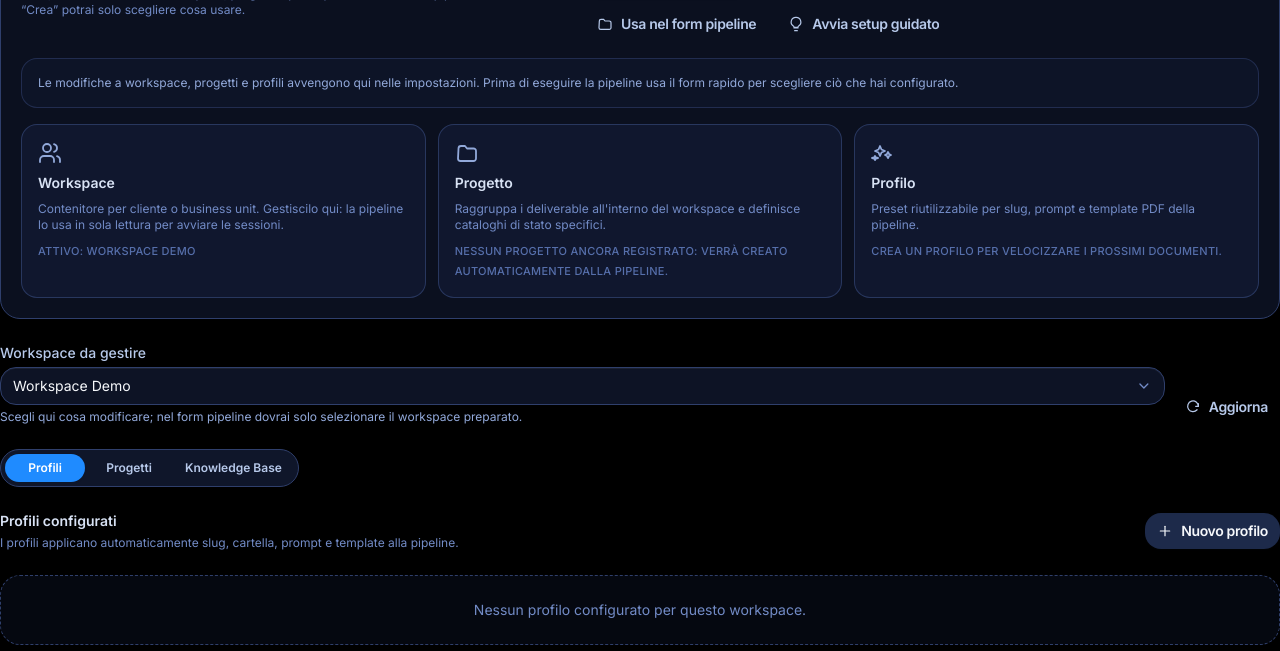
Test: WorkspaceProfilesManager › creates a workspace project from the settings drawer
The image size is (1280, 651).
Click the button "Progetti".
click(129, 468)  # box [89,454,169,482]
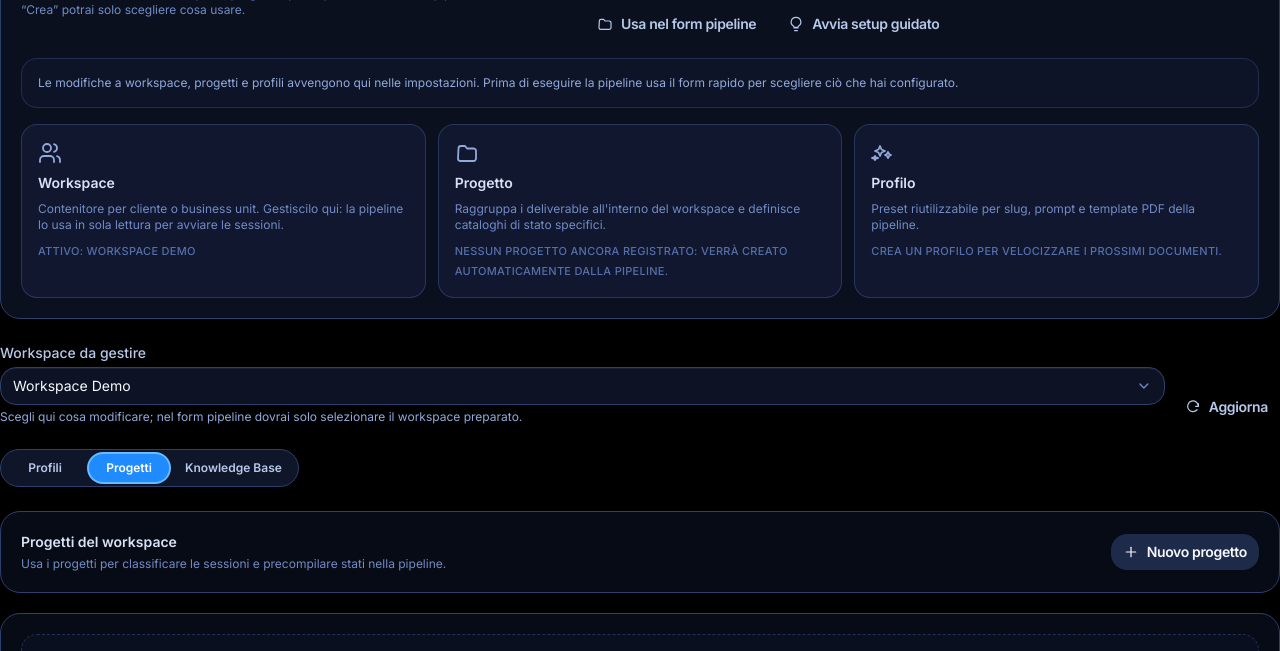
Click the button "Nuovo progetto".
click(1185, 552)  # box [1111,534,1259,570]
(page scrolled)
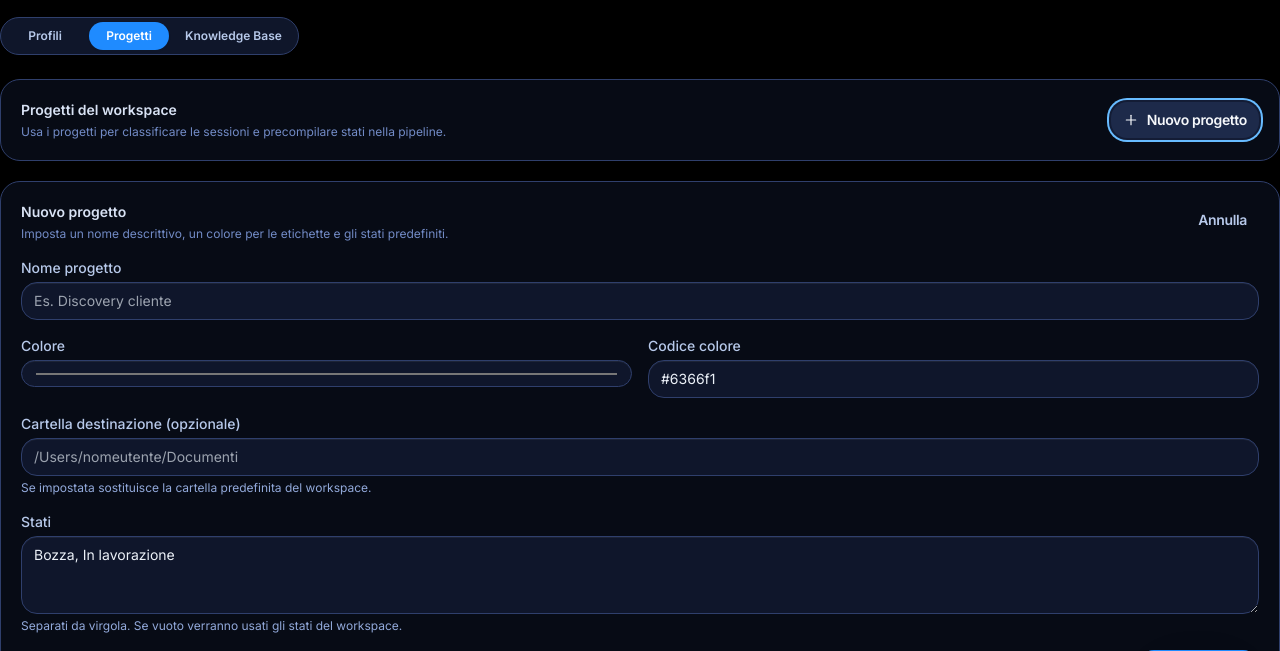
Type "Discovery" into the field labelled "Nome progetto".
click(640, 301); type("Discovery")  # box [21,282,1259,320]
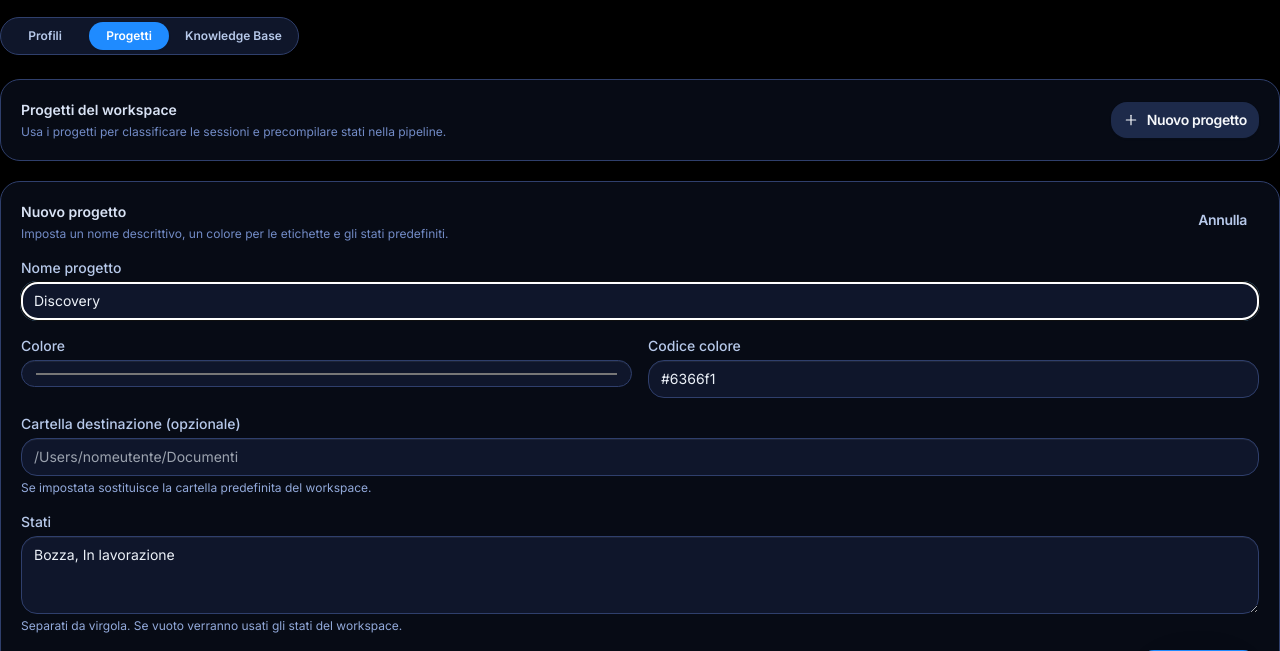
Replace the text in the text box labelled "Stati" with "Bozza, Review" at (640, 575), box [21,536,1259,614]
(page scrolled)
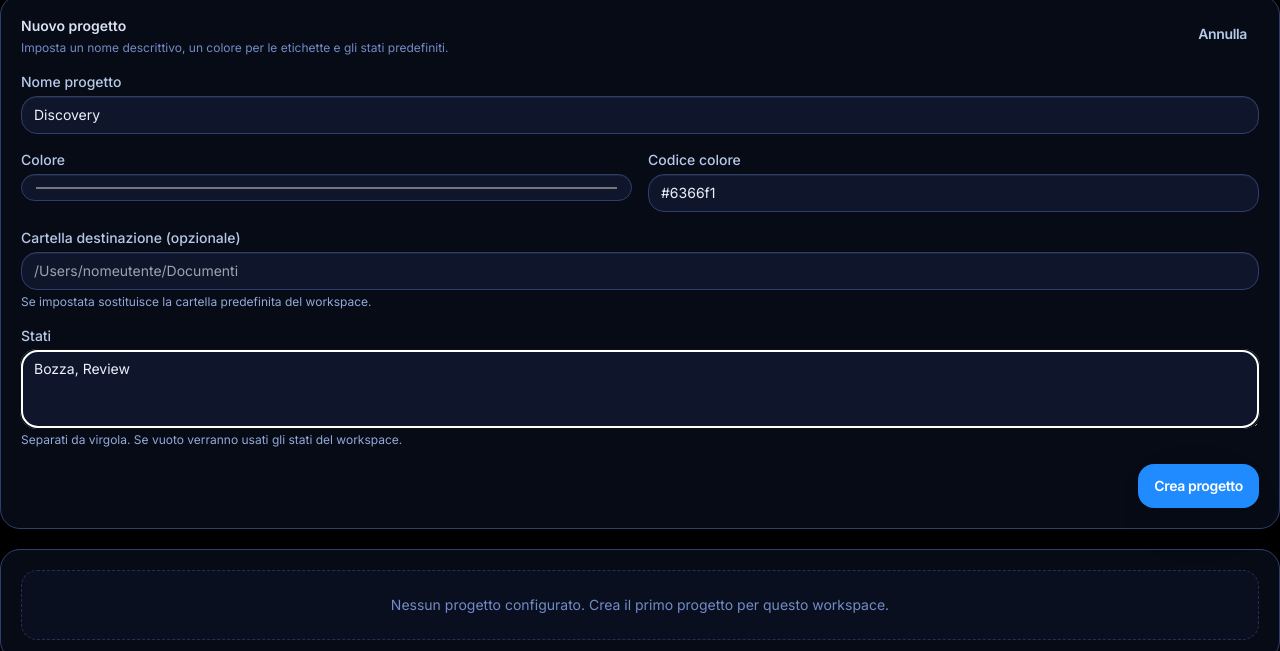
Click the button "Crea progetto".
click(1199, 486)  # box [1138,464,1259,508]
(page scrolled)
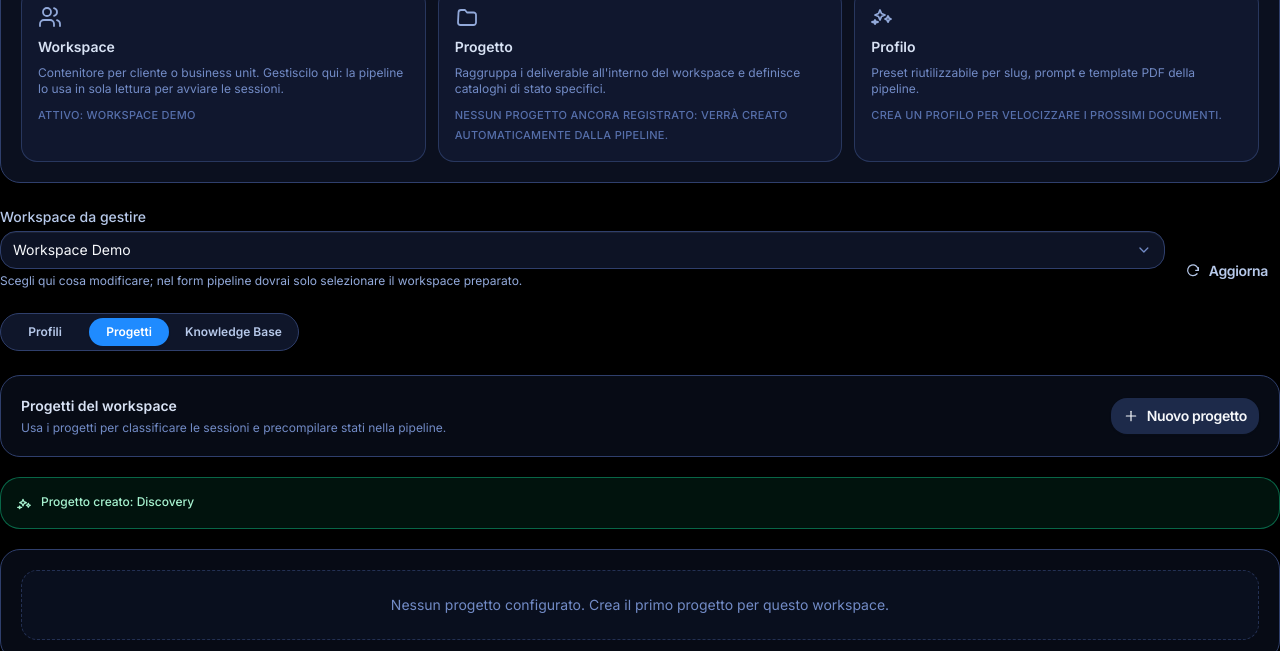
Expected: the text "Progetto creato: Discovery" is shown, [41,494,194,510]
